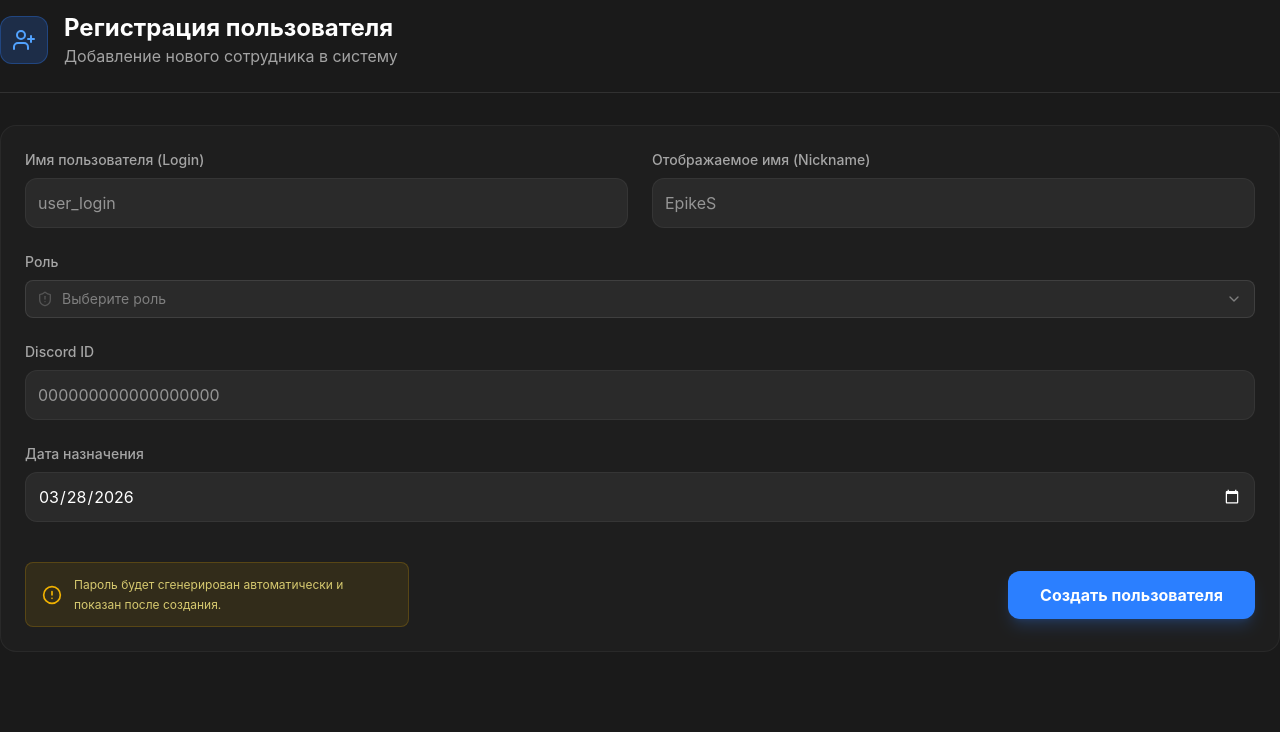
Test: UserRegistration › renders API 403 error message from backend
Type "new_user" into the field with placeholder "user_login".
click(326, 203); type("new_user")  # box [25,178,628,228]
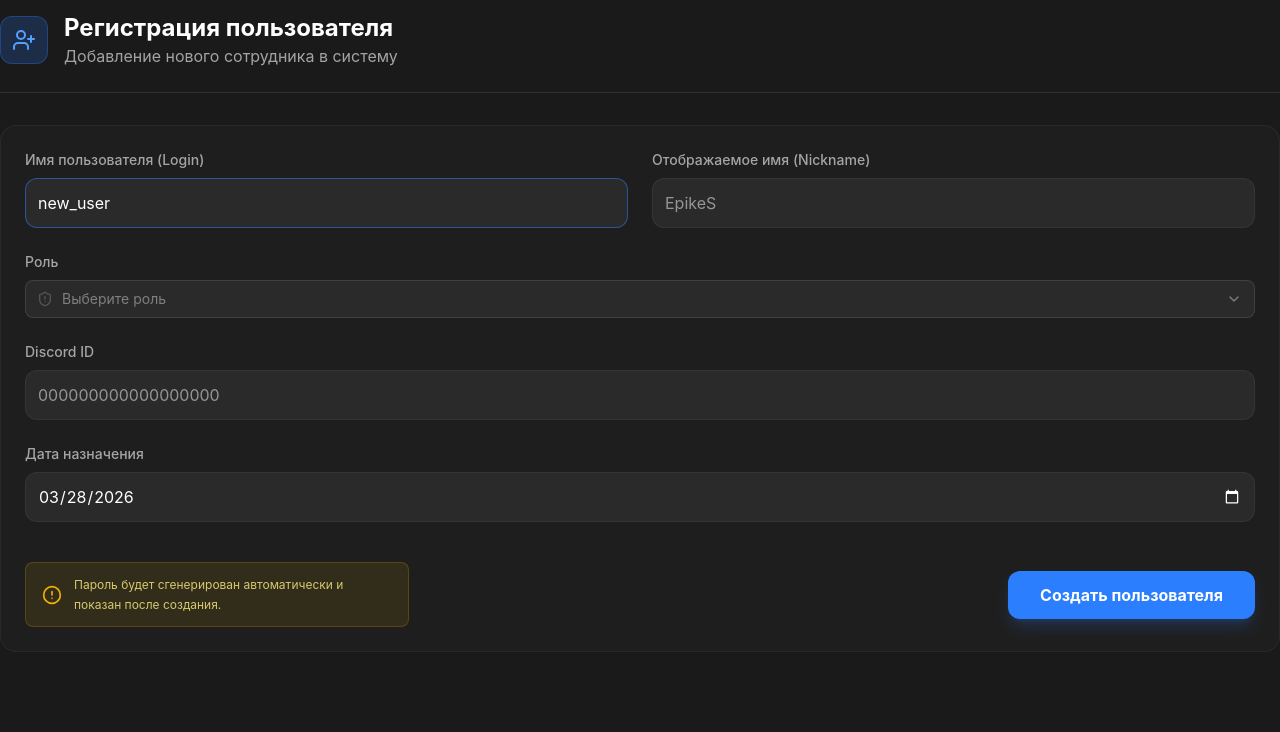
Type "New User" into the field with placeholder "EpikeS".
click(954, 203); type("New User")  # box [652,178,1255,228]
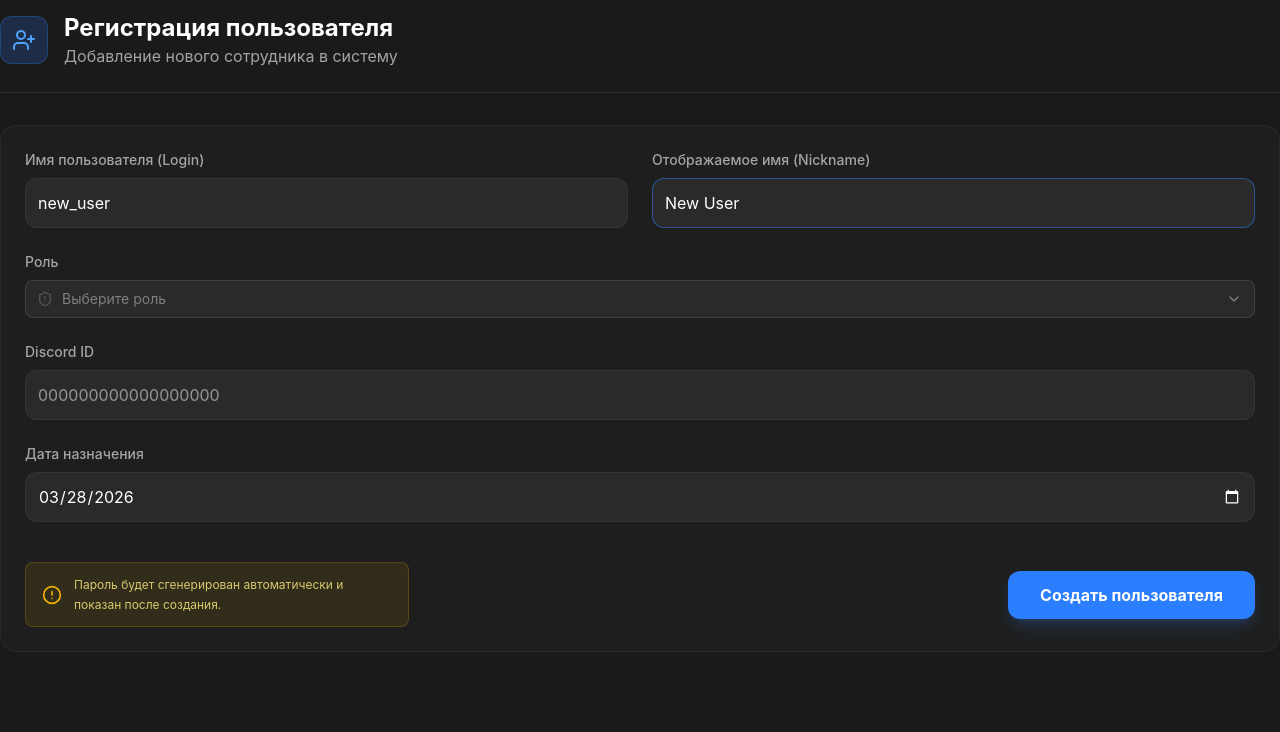
Type "123456789" into the field with placeholder "000000000000000000".
click(640, 395); type("123456789")  # box [25,370,1255,420]
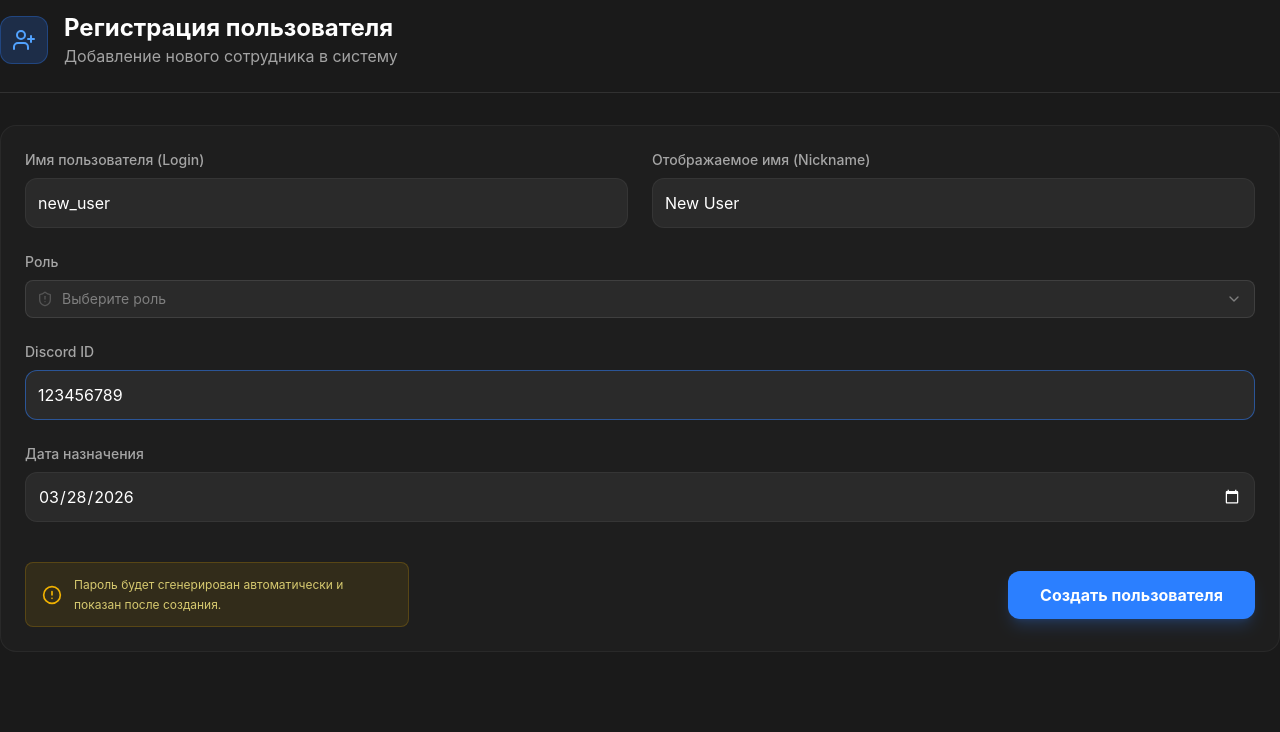
Click the text "Выберите роль".
click(114, 299)  # box [62,289,166,309]
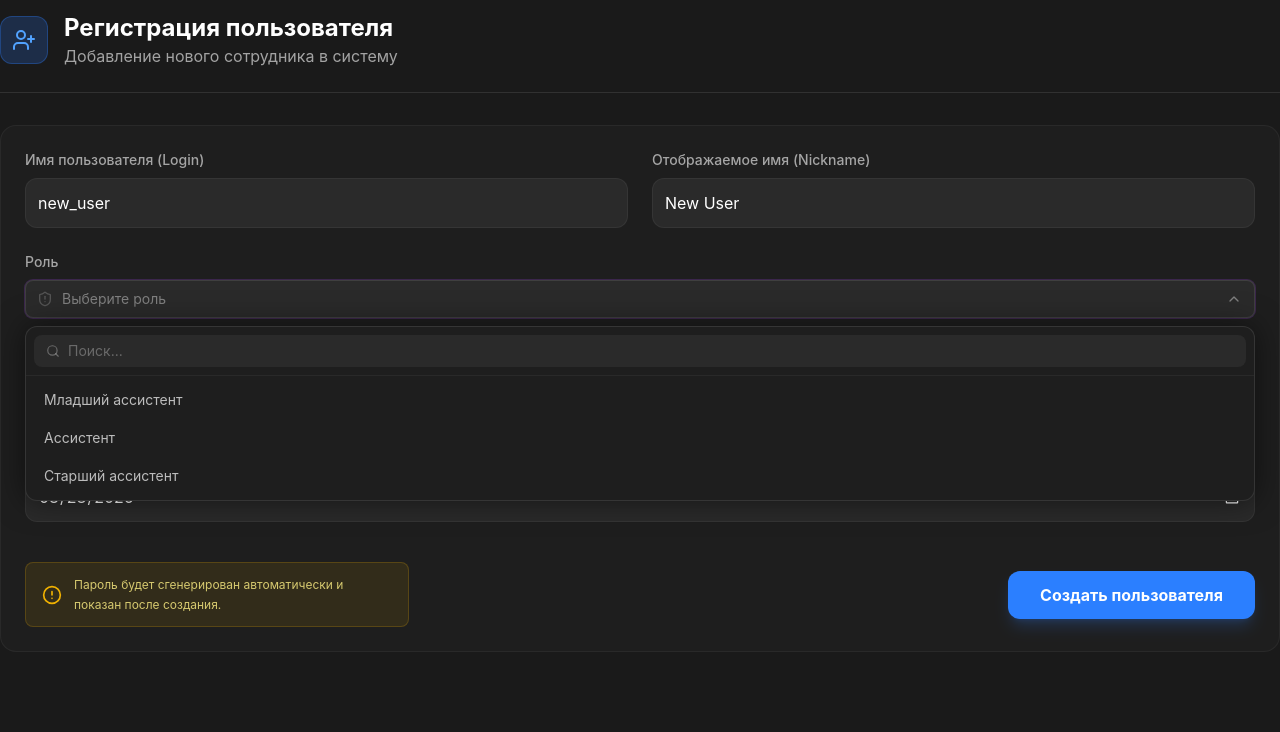
Click the text "Ассистент".
click(80, 438)  # box [44,428,115,448]
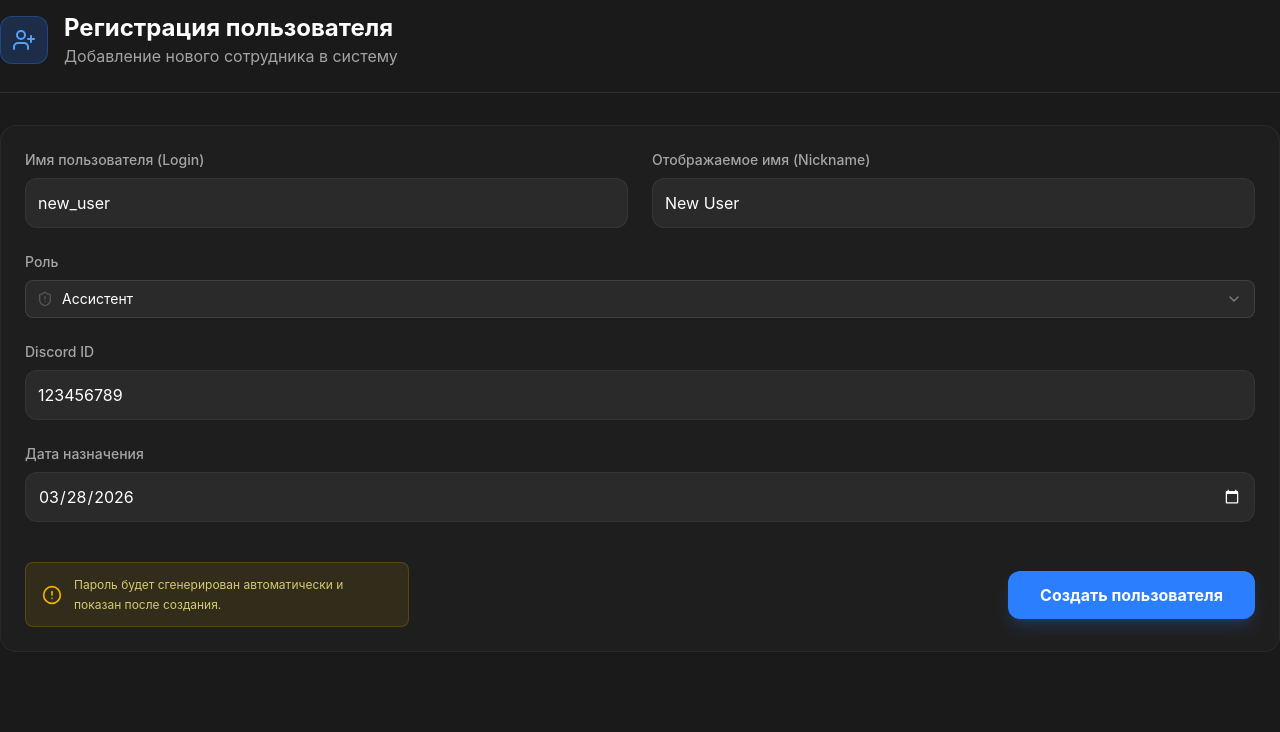
Click the button "Создать пользователя".
click(1132, 594)  # box [1008,570,1255,618]
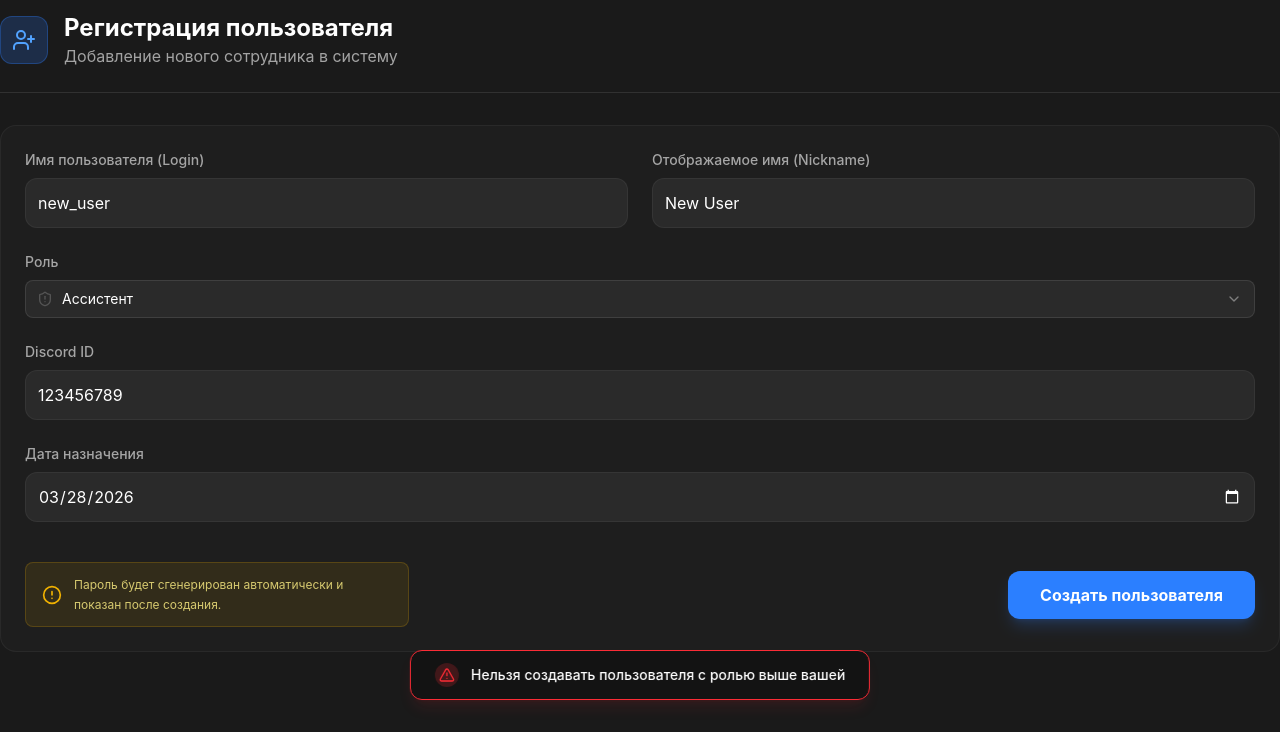
Expected: the text "Нельзя создавать пользователя с ролью выше вашей" is shown, [471,665,845,685]
